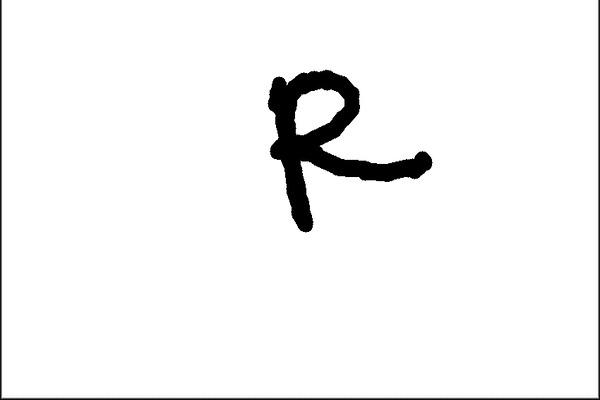R: (247, 57, 448, 239)
